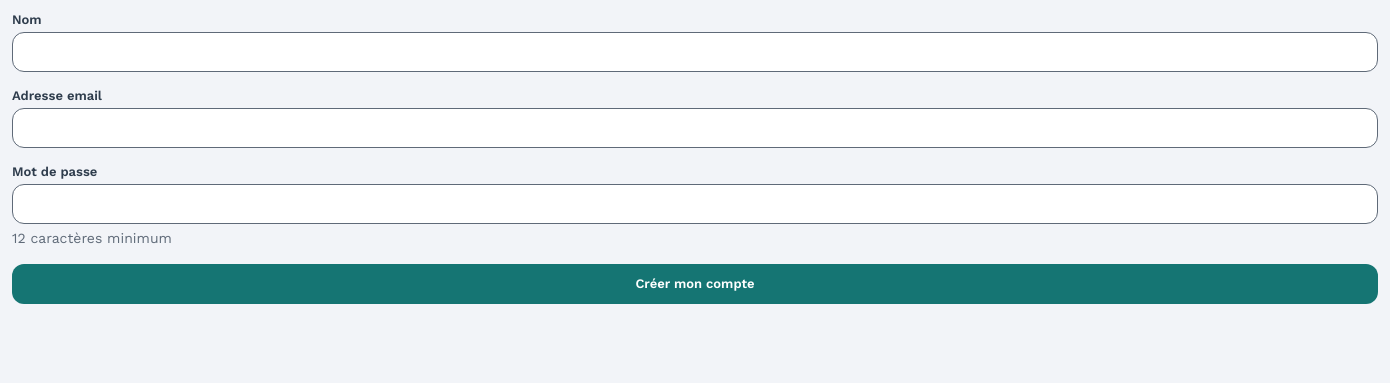
Test: SignUpForm (inscription) › affiche le message d'erreur de la liste fermée, jamais le texte du serveur
In the field labelled "Nom": (695, 52) [12,32,1378,72], type "Ada"
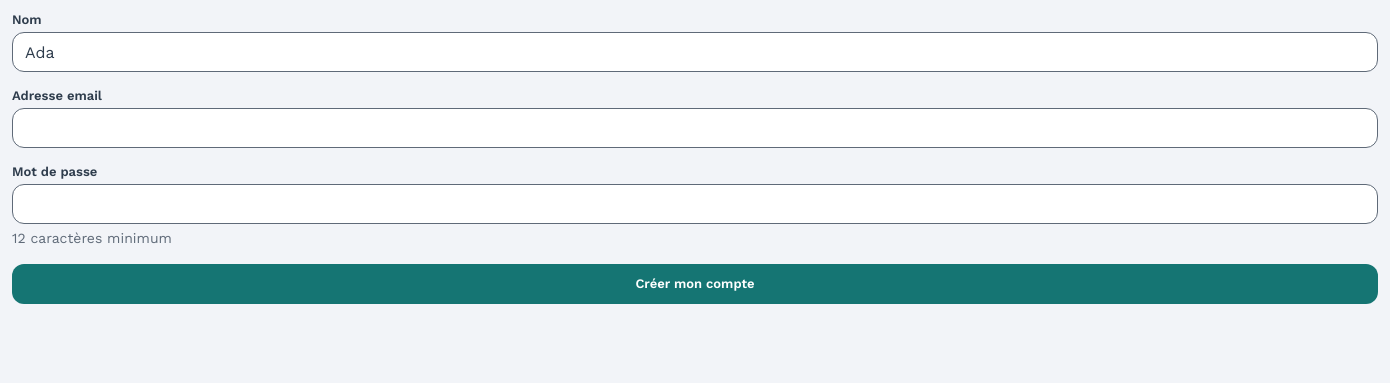
In the field labelled "Adresse email": (695, 128) [12,108,1378,148], type "ada@example.com"
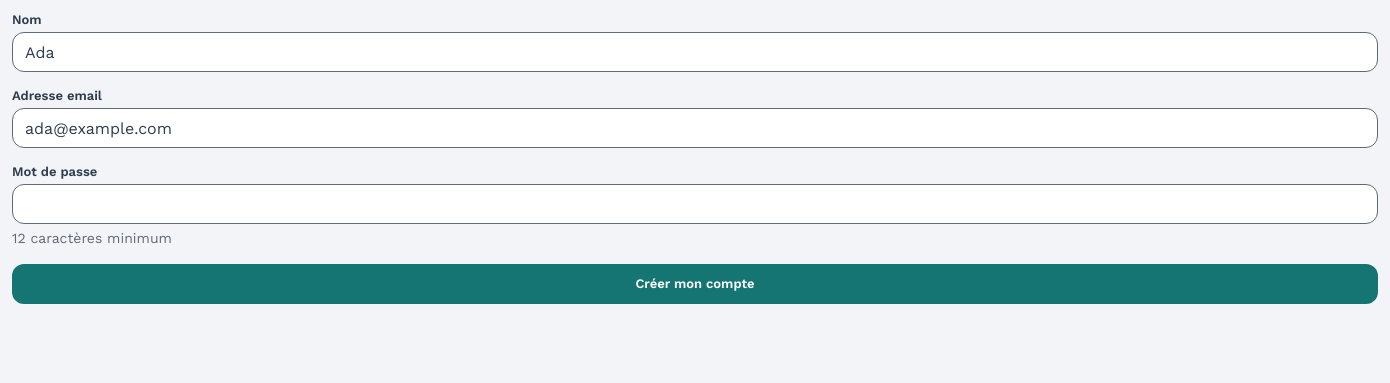
In the password field labelled "Mot de passe": (695, 204) [12,184,1378,224], type "un-mot-de-passe-long"
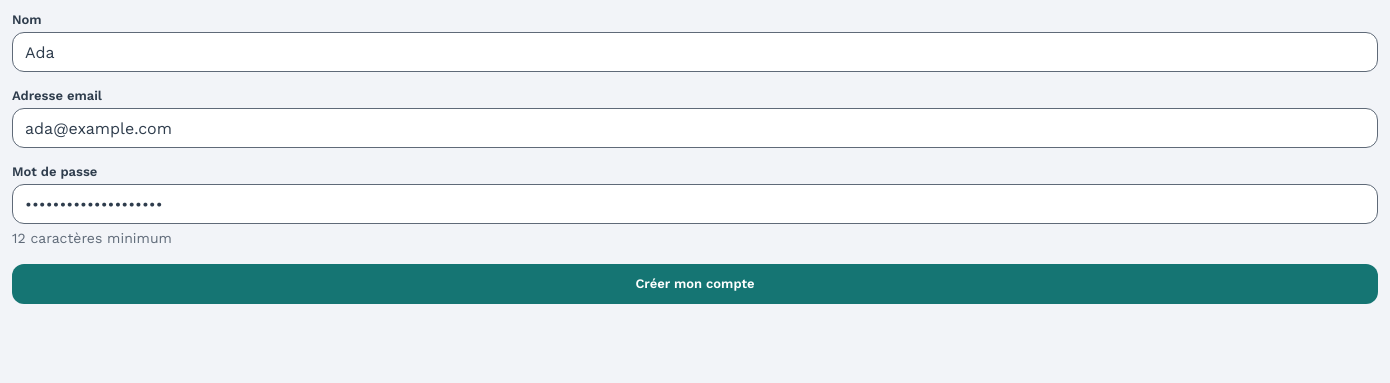
Click the button "Créer mon compte": click(695, 284) [12,264,1378,304]
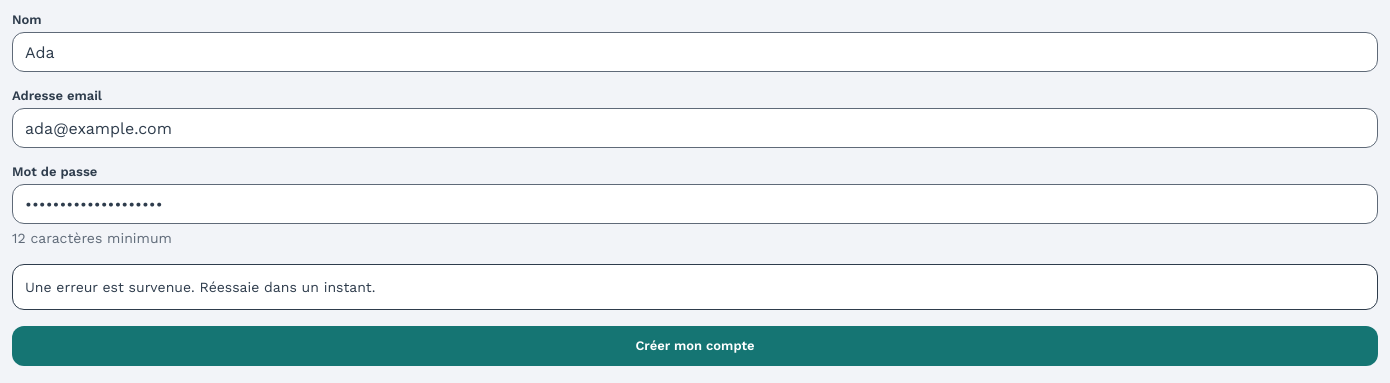
Check: the button "Créer mon compte" is enabled, box [12,326,1378,366]
Check: the message reads "Une erreur est survenue. Réessaie dans un instant.", box [25,279,375,295]
